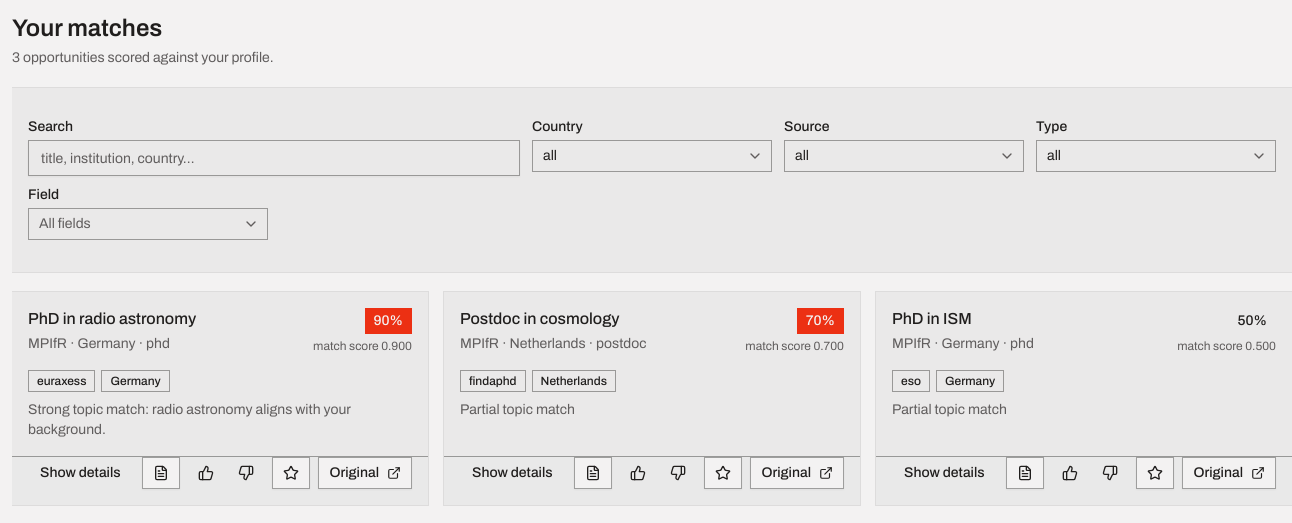
Test: DashboardPage › filters matches by position type
Click the dropdown named "Type". click: (1156,156)
box: [1036,140,1276,172]
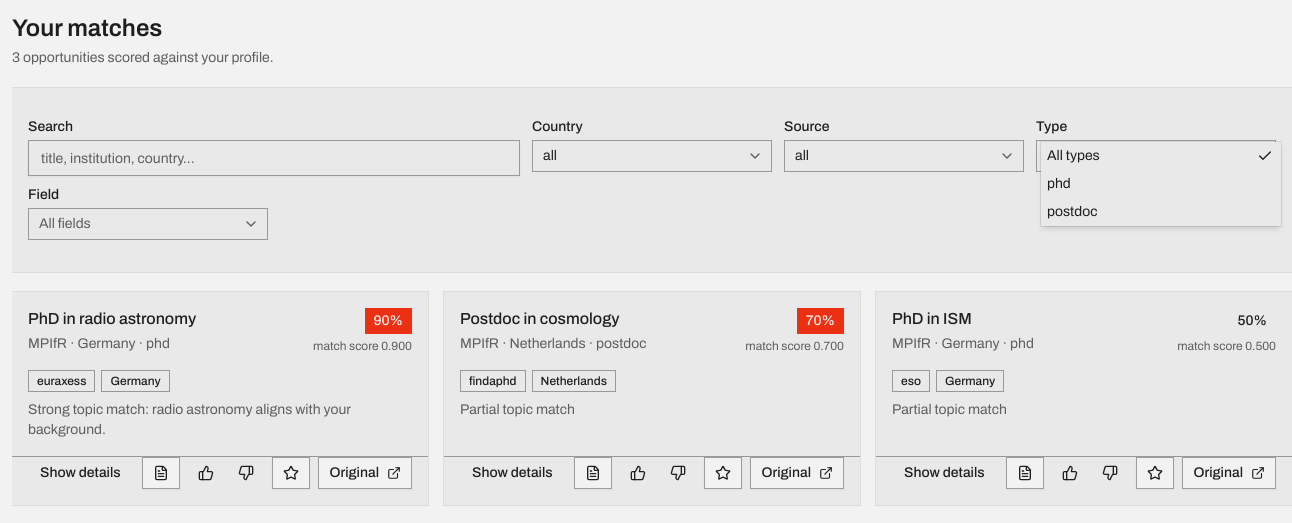
Click the option "postdoc". click: (1072,212)
box: [1047,204,1097,219]
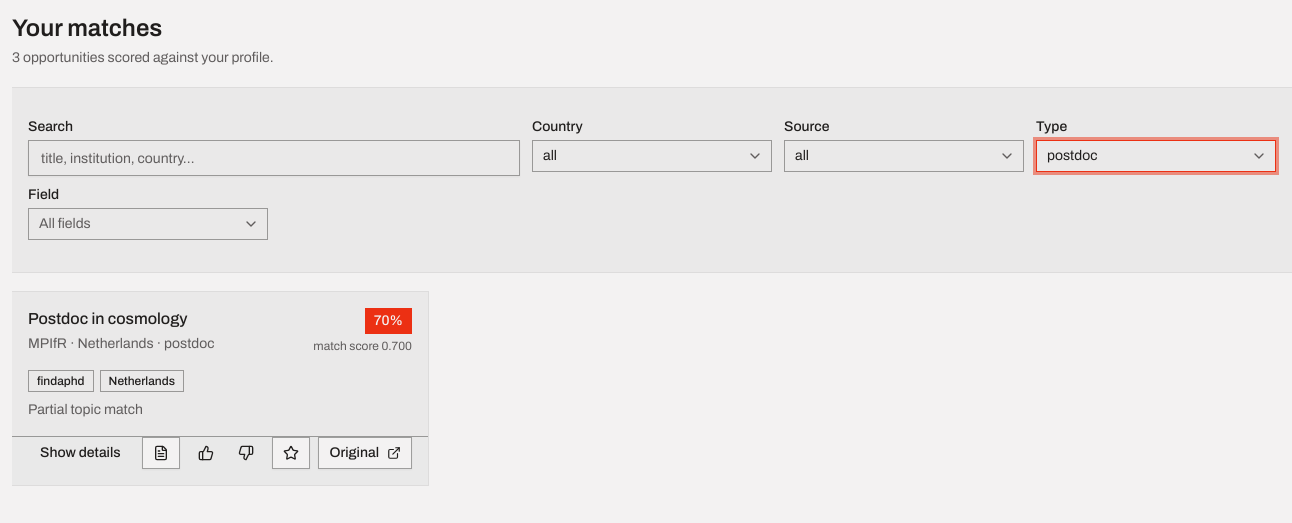
Check: the link "Postdoc in cosmology" is shown, box [28,310,188,327]
Check: the number of elements with test id "match-card" is 1, box [12,292,428,485]
